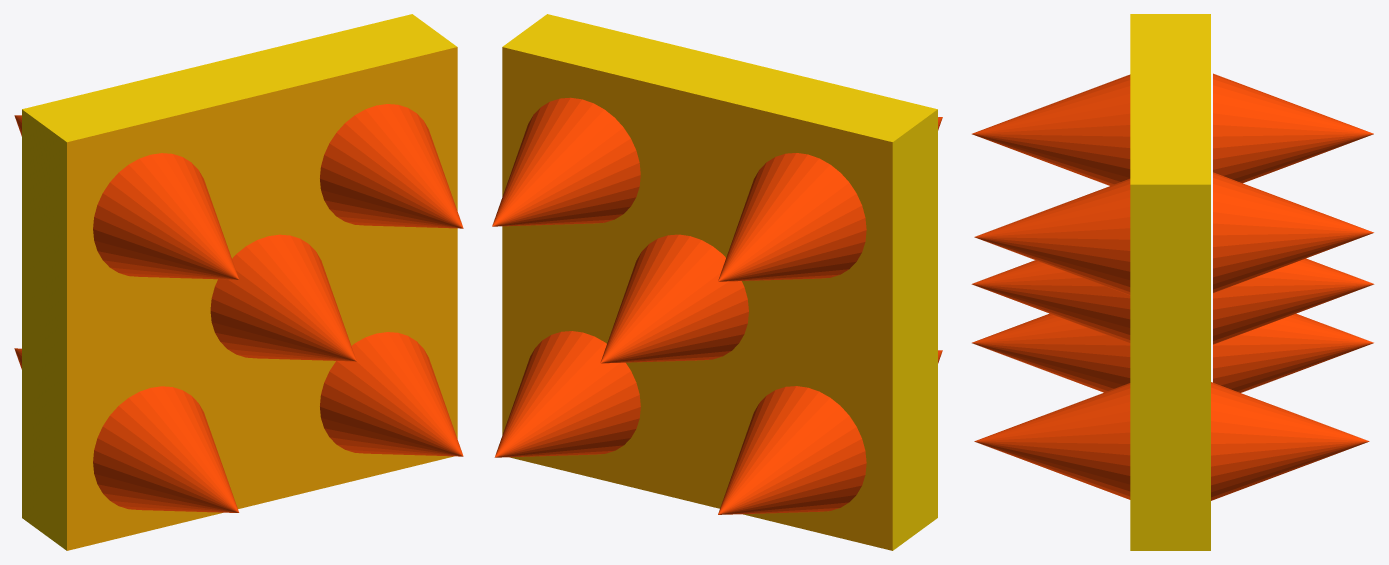
File: thormWall.obj
3 renders of one model, left to right at view 1: azimuth 30°, elevation 25°; view 2: azimuth 150°, elevation 25°; view 3: azimuth 270°, elevation 25°, orthographic. The views are drawn at different scales.
Visible parts, largest first — view 1: 円錐.009; view 2: 円錐.009; view 3: 円錐.009.
Boxes of the visible parts, bbox=[...] form: 円錐.009: bbox=[14, 14, 463, 550]; 円錐.009: bbox=[492, 14, 942, 550]; 円錐.009: bbox=[971, 14, 1374, 550].
Bounding box in the file's own units: 2 × 2 × 2.
Materials: 1 (1 with a texture image).
